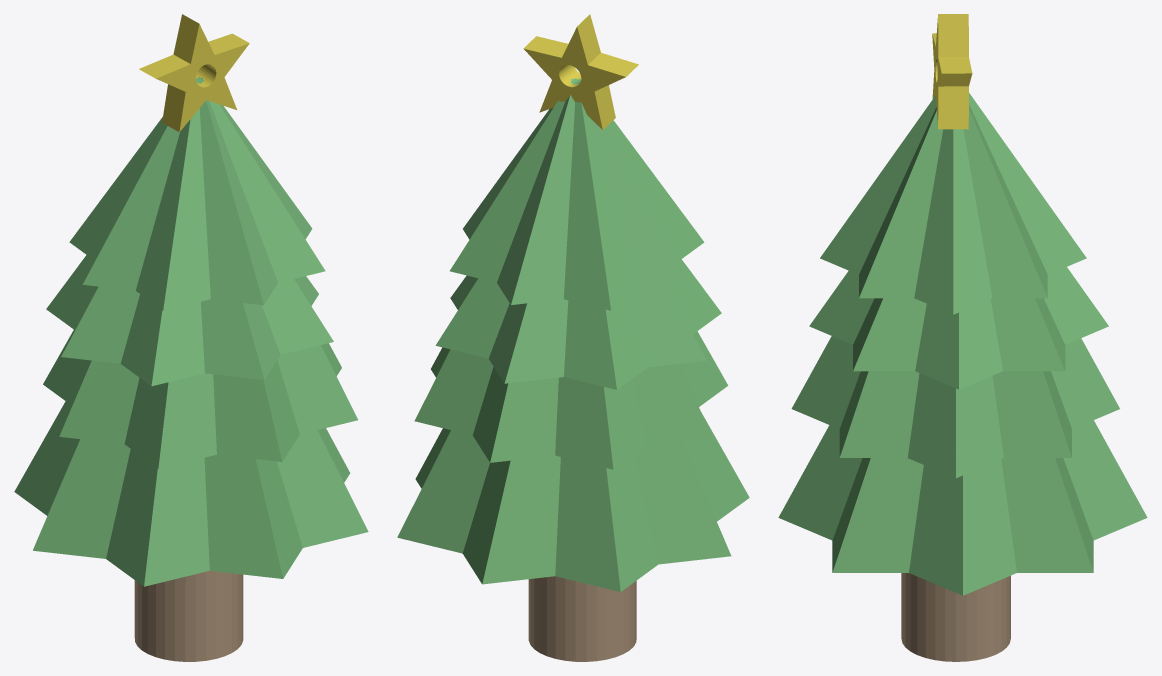
File: Tree.glb
3 renders of one model, left to right at view 1: azimuth 30°, elevation 25°; view 2: azimuth 150°, elevation 25°; view 3: azimuth 270°, elevation 25°, orthographic.
Parts seen in each view (by area): view 1: Mesh_Mesh_head_geo.001_lambert2SG.001; view 2: Mesh_Mesh_head_geo.001_lambert2SG.001; view 3: Mesh_Mesh_head_geo.001_lambert2SG.001.
Boxes of the visible parts, x1,y1,x2,y2 form: Mesh_Mesh_head_geo.001_lambert2SG.001: (14, 14, 368, 661); Mesh_Mesh_head_geo.001_lambert2SG.001: (397, 14, 749, 661); Mesh_Mesh_head_geo.001_lambert2SG.001: (778, 14, 1147, 661).
Size of the model in its own units: 48 by 89.71 by 48.
